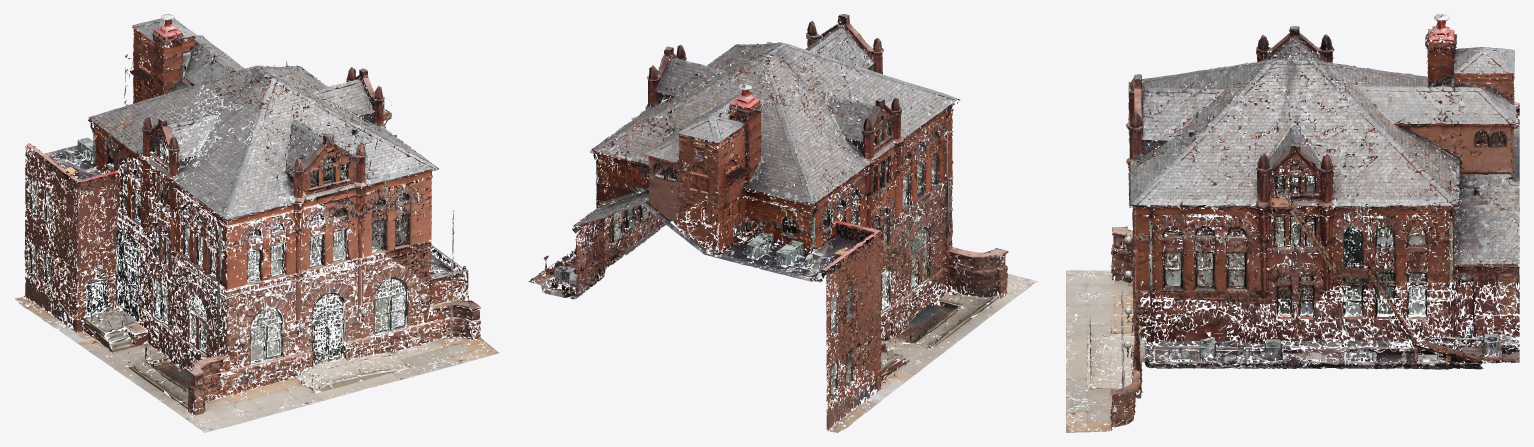
Rendered from police_station.glb.
3 views of the same model, side by side, from view 1: azimuth 30°, elevation 25°; view 2: azimuth 150°, elevation 25°; view 3: azimuth 270°, elevation 25° (orthographic). The views are drawn at different scales.
Parts seen in each view (by area): view 1: police_station; view 2: police_station; view 3: police_station.
Part boxes in pixels (bbox=[...]): police_station: bbox=[15, 14, 498, 432]; police_station: bbox=[528, 14, 1037, 432]; police_station: bbox=[1066, 14, 1519, 432].
Size of the model in its own units: 19.47 by 17.56 by 21.66.
1 material, 1 textured.
